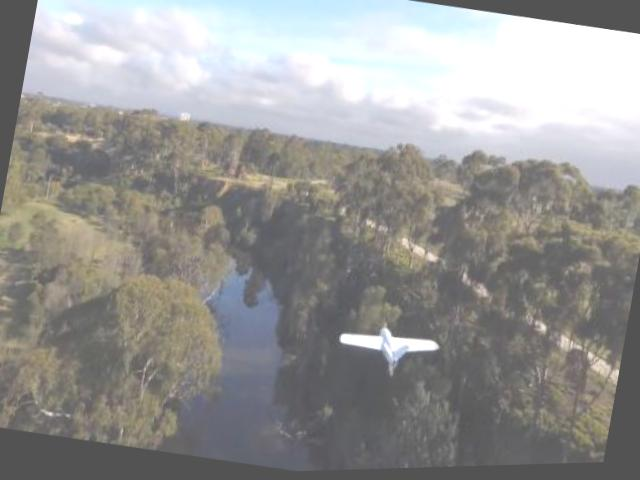uav: (333, 314, 441, 390)
